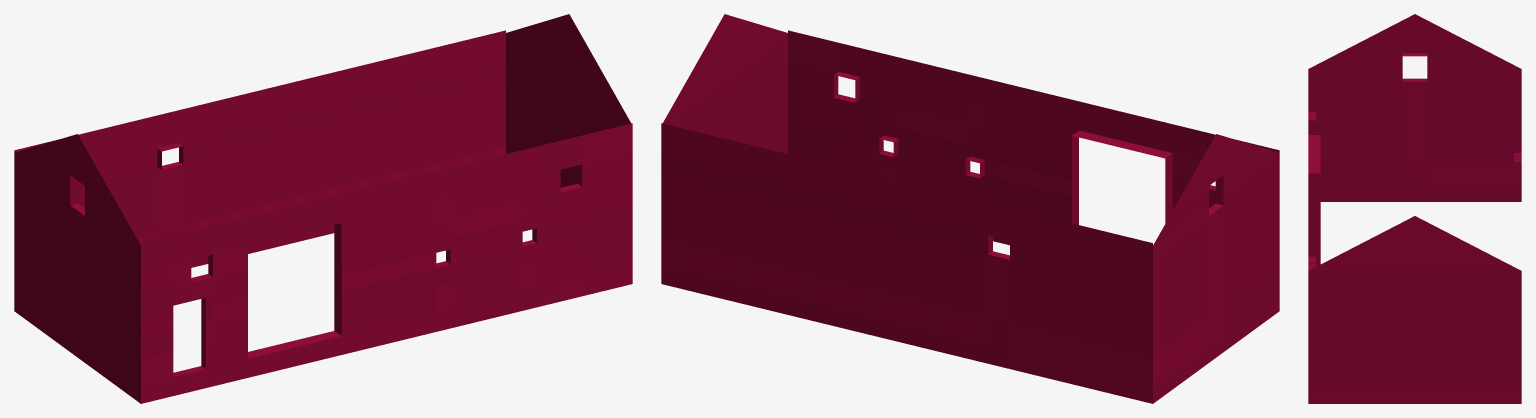
File: SM_Bld_194_Masonry.glb
3 renders of one model, left to right at view 1: azimuth 30°, elevation 25°; view 2: azimuth 150°, elevation 25°; view 3: azimuth 270°, elevation 25°, orthographic. The views are drawn at different scales.
Parts seen in each view (by area): view 1: SM_Bld_194_Masonry; view 2: SM_Bld_194_Masonry; view 3: SM_Bld_194_Masonry.
Part boxes in pixels (x1,y1,x2,y2): SM_Bld_194_Masonry: (14, 14, 632, 403); SM_Bld_194_Masonry: (661, 14, 1279, 403); SM_Bld_194_Masonry: (1308, 14, 1521, 403).
Bounding box in the file's own units: 13.66 × 5.94 × 6.1.
